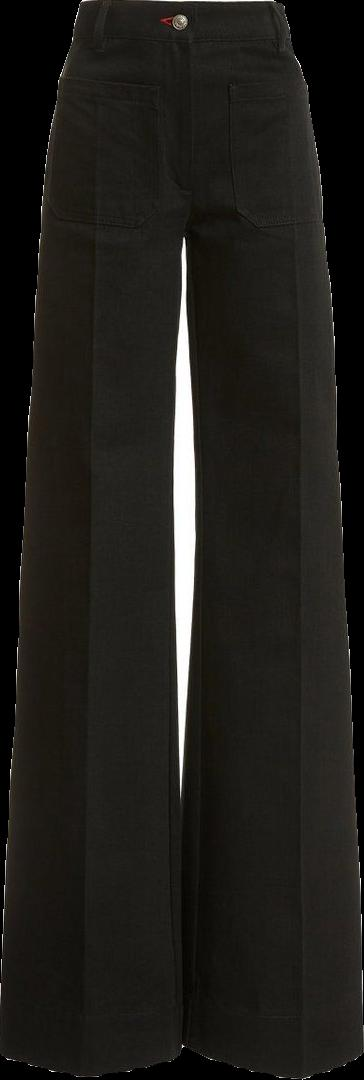Hemline: (0, 1034, 190, 1078), (182, 1034, 363, 1078)
Pantleg: (0, 0, 189, 1076), (182, 1, 363, 1076)
Waistline: (70, 31, 294, 51), (79, 0, 284, 15)
